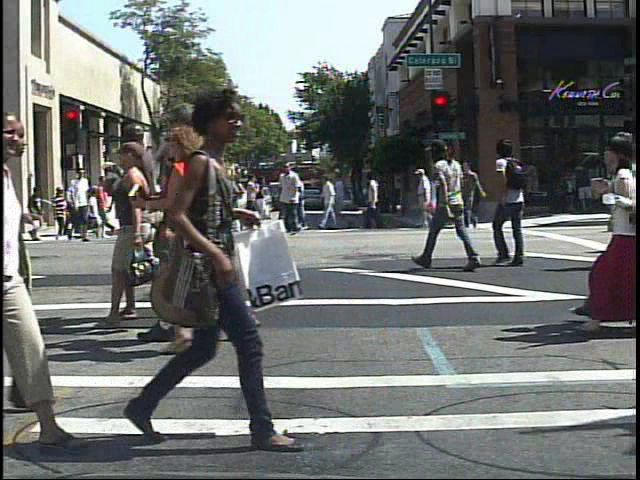person: (140, 77, 289, 456), (146, 120, 255, 360), (148, 95, 223, 348), (571, 119, 638, 346), (412, 129, 481, 271), (487, 134, 544, 275), (173, 153, 209, 248), (63, 164, 94, 246), (130, 160, 160, 241), (117, 162, 146, 243), (414, 166, 437, 228), (51, 183, 71, 241), (86, 182, 106, 224)
